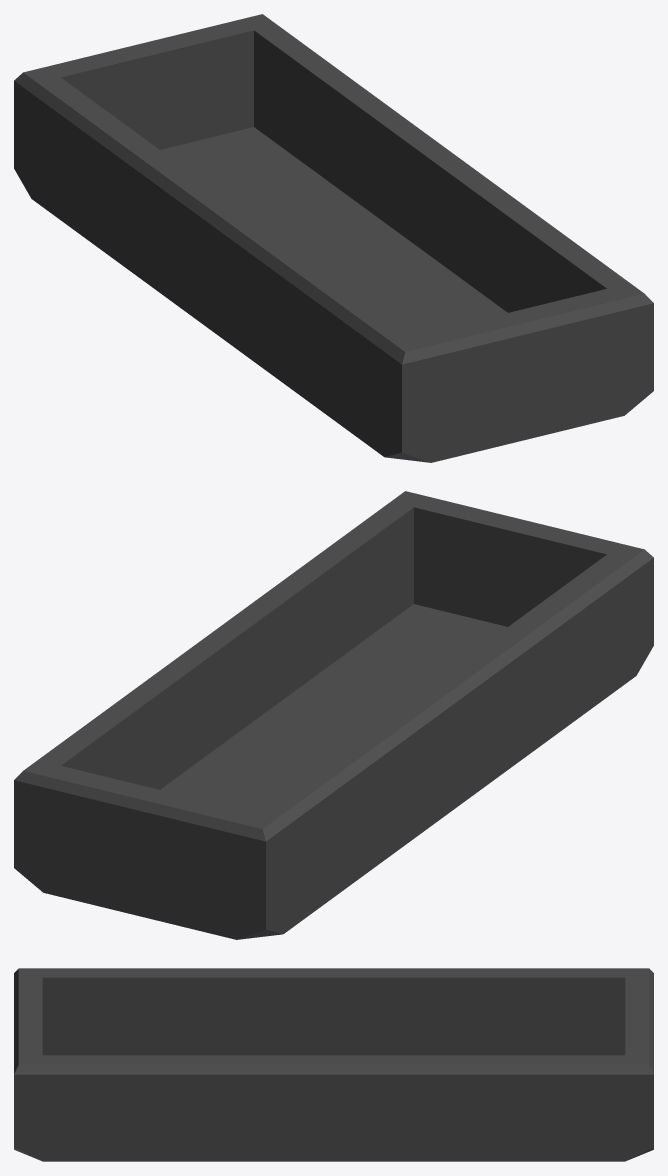
Rendered from CoffinBottom.obj.
The picture shows the model from 3 angles, top to bottom: view 1: azimuth 30°, elevation 25°; view 2: azimuth 150°, elevation 25°; view 3: azimuth 270°, elevation 25°; orthographic projection. The views are drawn at different scales.
Visible parts, largest first — view 1: 立方体; view 2: 立方体; view 3: 立方体.
Boxes of the visible parts, <box> form: 立方体: <box>14,14,653,462</box>; 立方体: <box>14,491,653,939</box>; 立方体: <box>14,968,653,1161</box>.
Bounding box in the file's own units: 3 × 1.3 × 8.
1 material, 1 textured.
